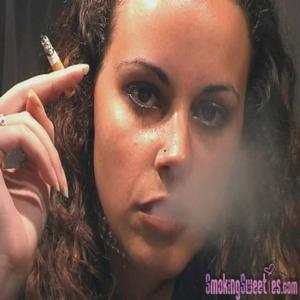cigarette: (41, 33, 77, 98)
